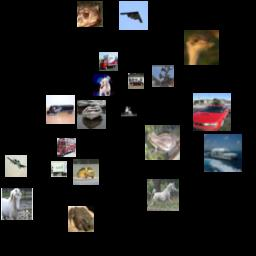airplane: (119, 1, 148, 30), (5, 155, 27, 177)
automobile: (193, 93, 231, 131), (73, 159, 99, 185), (128, 73, 144, 89)
bird: (184, 30, 219, 65)
deer: (152, 65, 174, 87)
frog: (145, 125, 180, 160), (68, 206, 94, 232), (77, 1, 103, 27)
ship: (204, 134, 242, 172), (77, 100, 106, 129)
truck: (46, 95, 75, 124), (99, 52, 118, 71), (57, 138, 76, 157), (51, 161, 67, 177)
